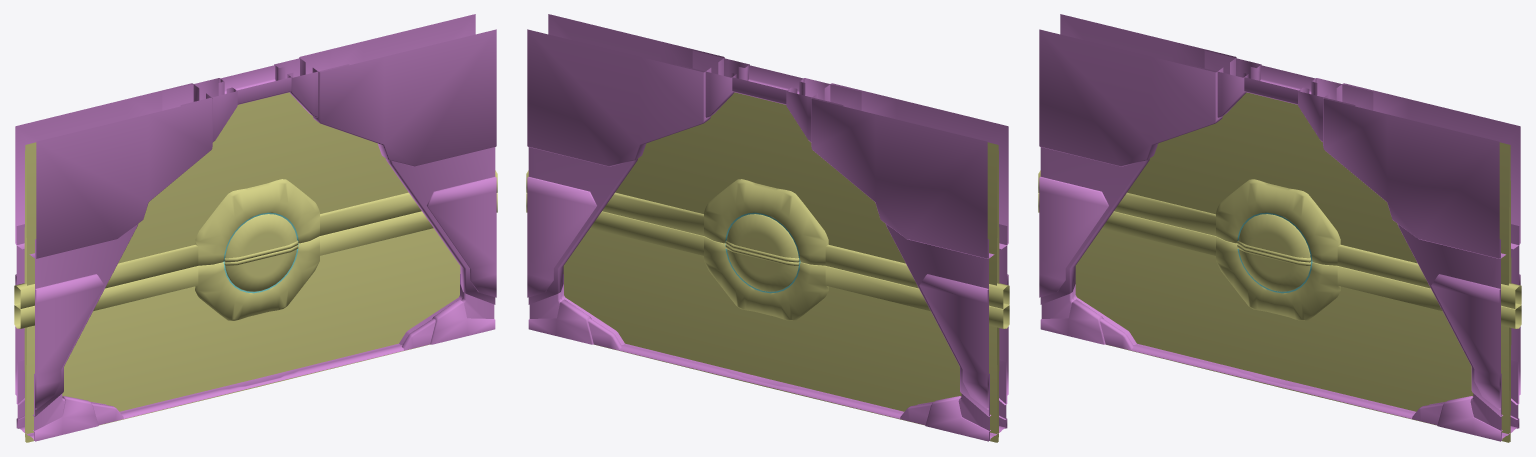
File: Gate.fbx
The picture shows the model from 3 angles, left to right: view 1: azimuth 30°, elevation 25°; view 2: azimuth 150°, elevation 25°; view 3: azimuth 330°, elevation 25°; orthographic projection.
Visible parts, largest first — view 1: Gate, GateDoorBottom, GateDoorTop, GateDoorTopHalfCircle, GateDoorBottomHalfCircle; view 2: Gate, GateDoorBottom, GateDoorTop, GateDoorTopHalfCircle, GateDoorBottomHalfCircle; view 3: Gate, GateDoorBottom, GateDoorTop, GateDoorTopHalfCircle, GateDoorBottomHalfCircle.
Part boxes in pixels (box(x1,y1,x2,y2)): Gate: box(15, 14, 496, 441); GateDoorBottom: box(14, 193, 497, 442); GateDoorTop: box(14, 92, 497, 309); GateDoorTopHalfCircle: box(224, 214, 298, 262); GateDoorBottomHalfCircle: box(224, 245, 298, 291); Gate: box(527, 14, 1008, 441); GateDoorBottom: box(526, 193, 1009, 442); GateDoorTop: box(526, 92, 1009, 309); GateDoorTopHalfCircle: box(725, 214, 799, 262); GateDoorBottomHalfCircle: box(725, 245, 799, 291); Gate: box(1039, 14, 1520, 441); GateDoorBottom: box(1038, 193, 1521, 442); GateDoorTop: box(1038, 92, 1521, 309); GateDoorTopHalfCircle: box(1237, 214, 1311, 262); GateDoorBottomHalfCircle: box(1237, 245, 1310, 291).
Bounding box in the file's own units: 8.31 × 5.13 × 0.6325.
